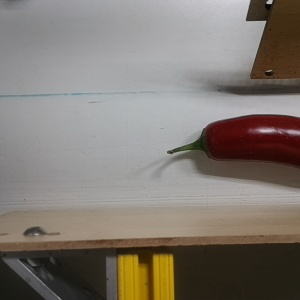Cut Point: (194, 120, 223, 161)
